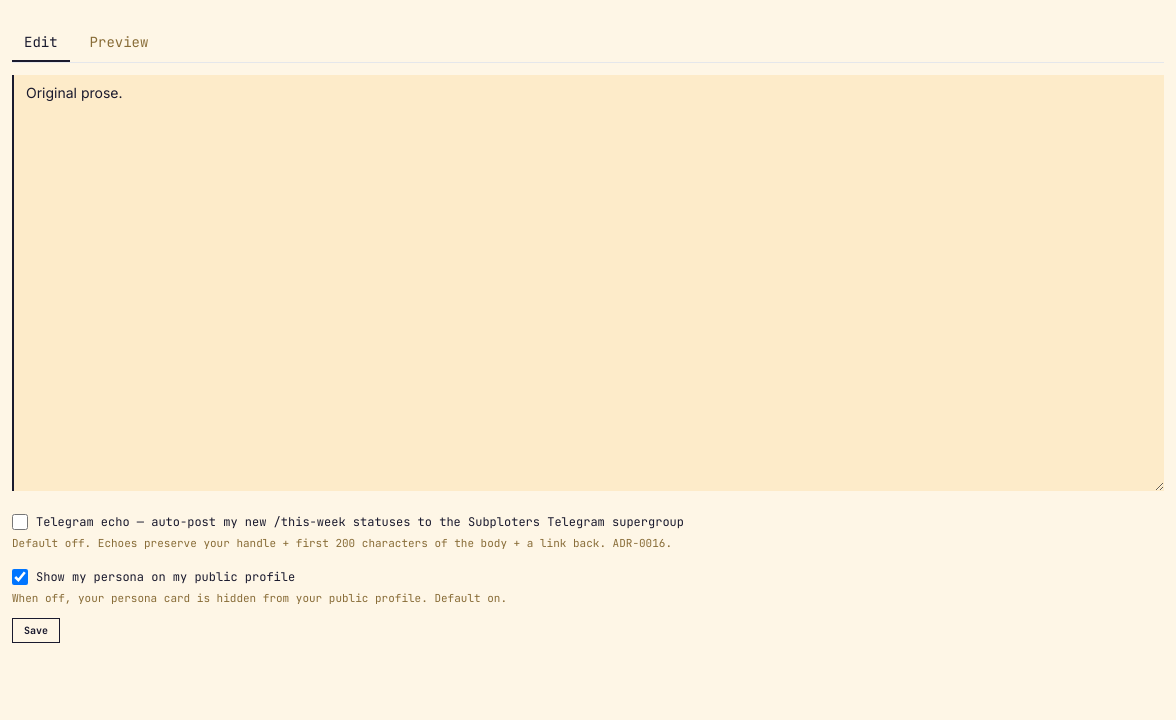
Test: ProfileEditor › save error paths › shows 'Someone else updated' when error is refresh_needed
This screenshot has width=1176, height=720.
What coordinates should you click on to do the following:
click the button "Save"
I would click on:
 (36, 630)
Its box is [12,618,60,643].
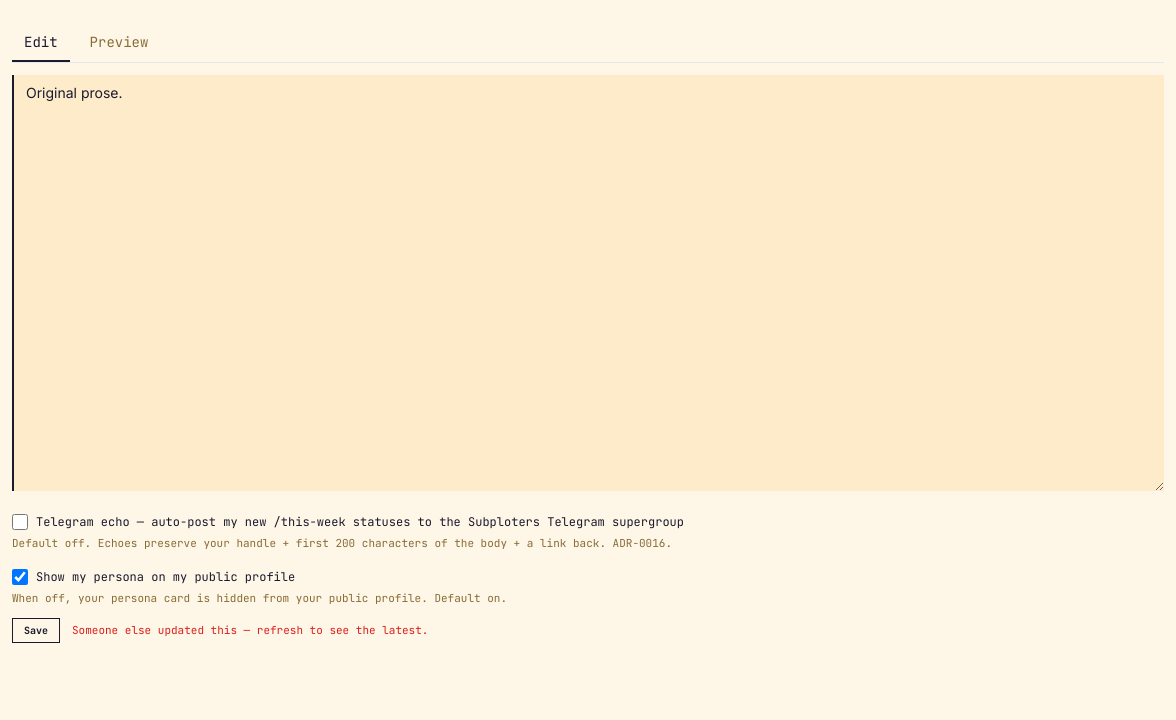
Expected: the text "Someone else updated this — refresh to see the latest." is shown, [72,622,428,639]
